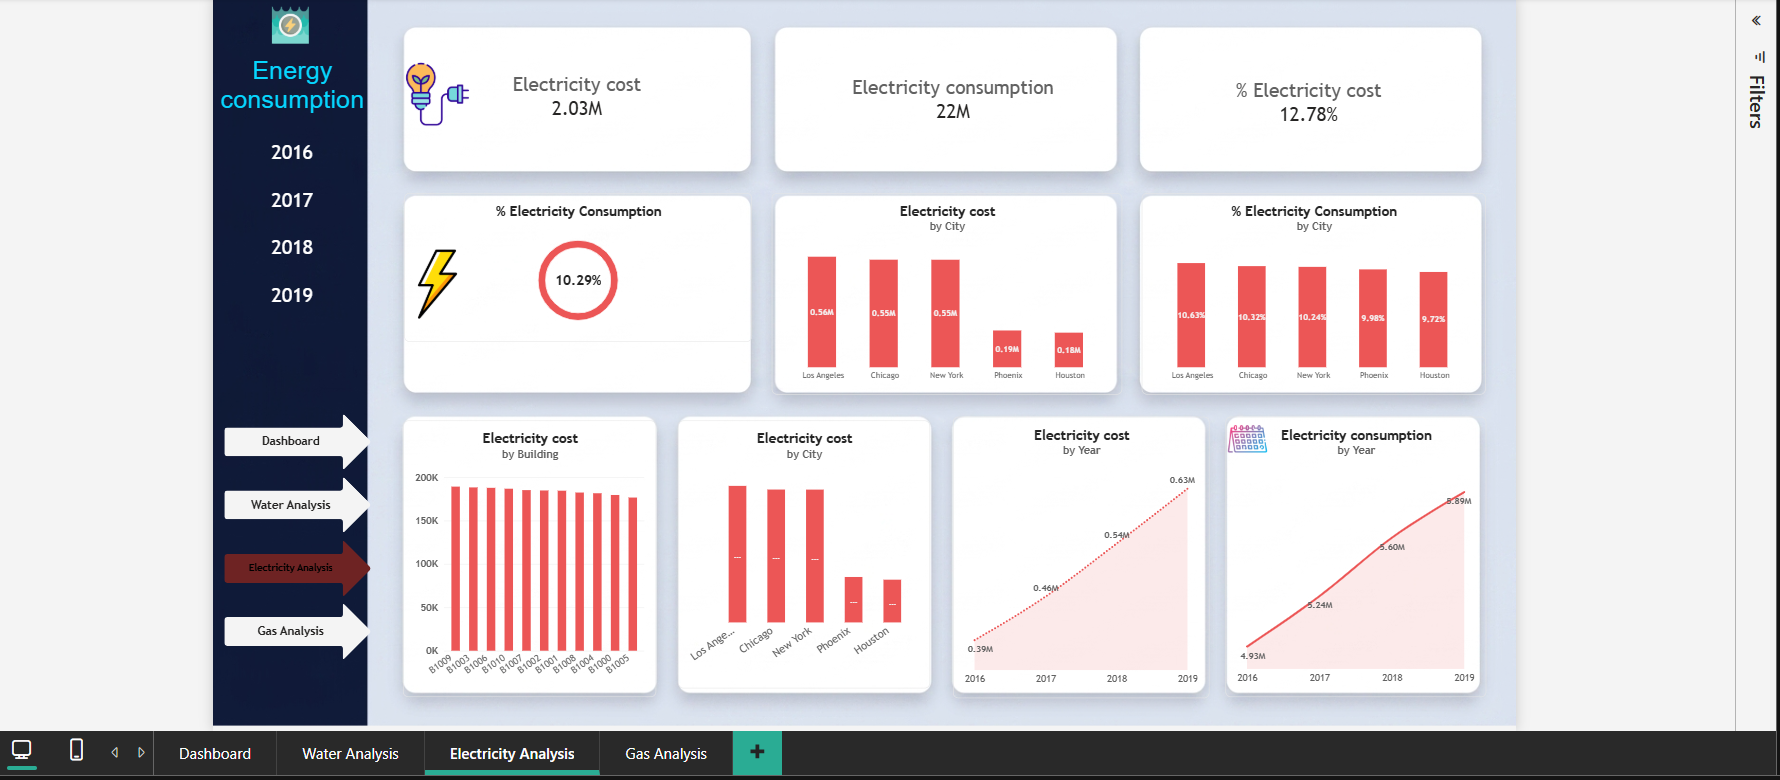

What the dashboard file says about the page in this screenshot:
{"tool":"powerbi","page":{"name":"Electricity Analysis","canvas":[1920,1080],"ordinal":2},"visuals":[{"type":"cardVisual","fields":{"Data":["KPIS.Electricity cost"]},"box":[280.5,39.8,512.1,209.9],"z":0},{"type":"donutChart","fields":{"Y":["KPIS.% Electricity Consumption"]},"box":[281.2,287,512.4,219.6],"z":1000},{"type":"cardVisual","fields":{"Data":["KPIS.% Electricity cost"]},"box":[1369.9,59.7,488.6,190],"z":2000},{"type":"advancedSlicerVisual","fields":{"Values":["Rates.Year"]},"box":[16.3,195.4,200.3,279.3],"z":3000},{"type":"clusteredColumnChart","fields":{"Category":["Building Master.City"],"Y":["KPIS.Electricity cost"]},"box":[823.4,287.7,515.8,296.8],"z":4000},{"type":"clusteredColumnChart","fields":{"Category":["Building Master.City"],"Y":["KPIS.% Electricity Consumption"]},"box":[1368.1,287.7,506.7,296.8],"z":5000},{"type":"clusteredColumnChart","fields":{"Category":["Building Master.City"],"Y":["KPIS.Electricity cost"]},"box":[684.1,622.5,371,394.5],"z":6000},{"type":"lineChart","fields":{"Category":["Rates.Year"],"Y":["KPIS.Electricity consumption"]},"box":[1491.2,617.1,383.6,412.6],"z":7000},{"type":"clusteredColumnChart","fields":{"Category":["Building Master.Building"],"Y":["KPIS.Electricity cost"]},"box":[280.5,622.5,372.8,407.2],"z":8000},{"type":"lineChart","fields":{"Category":["Rates.Year"],"Y":["KPIS.Electricity cost"]},"box":[1090.2,616.4,377.5,414.1],"z":9000},{"type":"textbox","box":[9,85.1,215.3,128.5],"z":10000},{"type":"image","box":[50.7,12.7,124.9,54.3],"z":11000},{"type":"image","box":[1491.2,617.1,65.1,65.1],"z":15000},{"type":"pageNavigator","box":[16.3,611.7,217.2,367.4],"z":16000},{"type":"cardVisual","fields":{"Data":["KPIS.Electricity consumption"]},"box":[841.5,45.2,497.7,209.9],"z":17000},{"type":"image","box":[280.5,88.7,101.3,106.8],"z":17001},{"type":"image","box":[280.5,367.4,101.3,106.8],"z":17002}]}

Visuals, with their boxes on the page's 1920x1080 design canvas (x1, y1, x2, y2). These are canvas units, not pixel positions in the 1780x780 screenshot, which may show the page scaled, cropped or inside an application window:
cardVisual - KPIS.Electricity cost: BBox(280, 40, 793, 250)
donutChart - KPIS.% Electricity Consumption: BBox(281, 287, 794, 507)
cardVisual - KPIS.% Electricity cost: BBox(1370, 60, 1858, 250)
advancedSlicerVisual - Rates.Year: BBox(16, 195, 217, 475)
clusteredColumnChart - Building Master.City x KPIS.Electricity cost: BBox(823, 288, 1339, 584)
clusteredColumnChart - Building Master.City x KPIS.% Electricity Consumption: BBox(1368, 288, 1875, 584)
clusteredColumnChart - Building Master.City x KPIS.Electricity cost: BBox(684, 622, 1055, 1017)
lineChart - Rates.Year x KPIS.Electricity consumption: BBox(1491, 617, 1875, 1030)
clusteredColumnChart - Building Master.Building x KPIS.Electricity cost: BBox(280, 622, 653, 1030)
lineChart - Rates.Year x KPIS.Electricity cost: BBox(1090, 616, 1468, 1030)
textbox: BBox(9, 85, 224, 214)
image: BBox(51, 13, 176, 67)
image: BBox(1491, 617, 1556, 682)
pageNavigator: BBox(16, 612, 234, 979)
cardVisual - KPIS.Electricity consumption: BBox(842, 45, 1339, 255)
image: BBox(280, 89, 382, 196)
image: BBox(280, 367, 382, 474)
